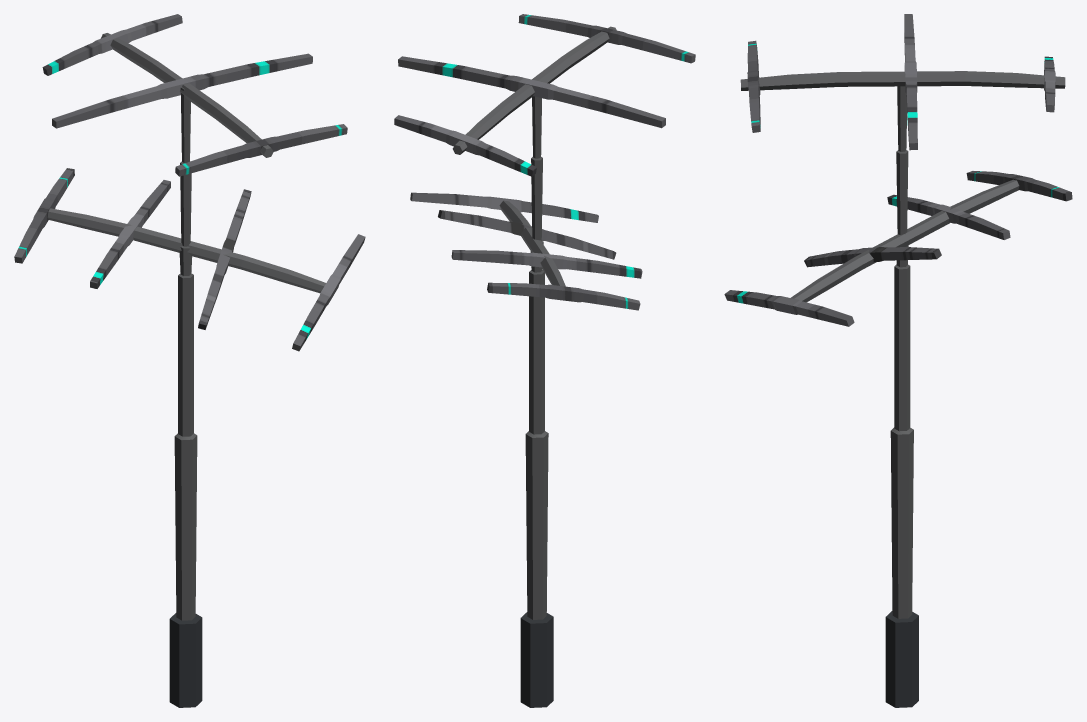
Rendered from SM_Prop_Antenna_05.fbx.
3 renders of one model, left to right at view 1: azimuth 30°, elevation 25°; view 2: azimuth 150°, elevation 25°; view 3: azimuth 270°, elevation 25°, orthographic. The views are drawn at different scales.
Visible parts, largest first — view 1: SM_Prop_Antenna_05; view 2: SM_Prop_Antenna_05; view 3: SM_Prop_Antenna_05.
Boxes of the visible parts, bbox=[...] form: SM_Prop_Antenna_05: bbox=[14, 14, 365, 707]; SM_Prop_Antenna_05: bbox=[394, 14, 695, 707]; SM_Prop_Antenna_05: bbox=[724, 14, 1072, 707].
Size of the model in its own units: 153 by 311 by 156.
